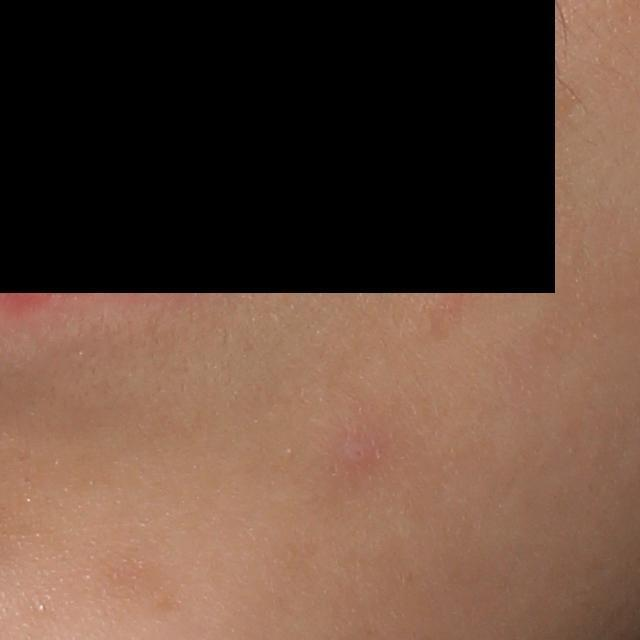papule: (330, 429, 374, 471)
